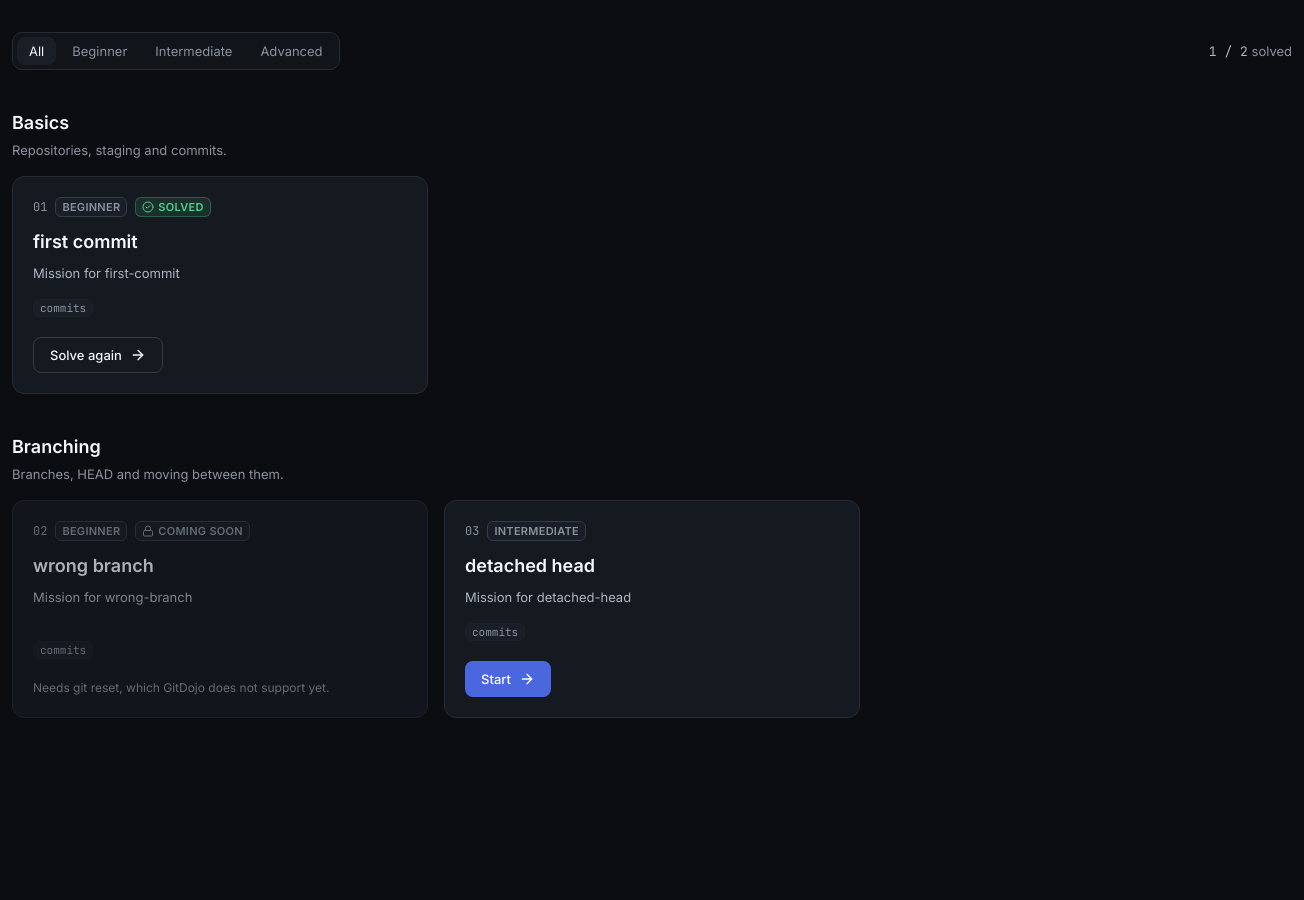
ChallengeBrowser › filters by difficulty
What coordinates should you click on to do the following:
click the button "Intermediate"
I would click on:
 (194, 51)
Its box is left=143, top=37, right=244, bottom=65.
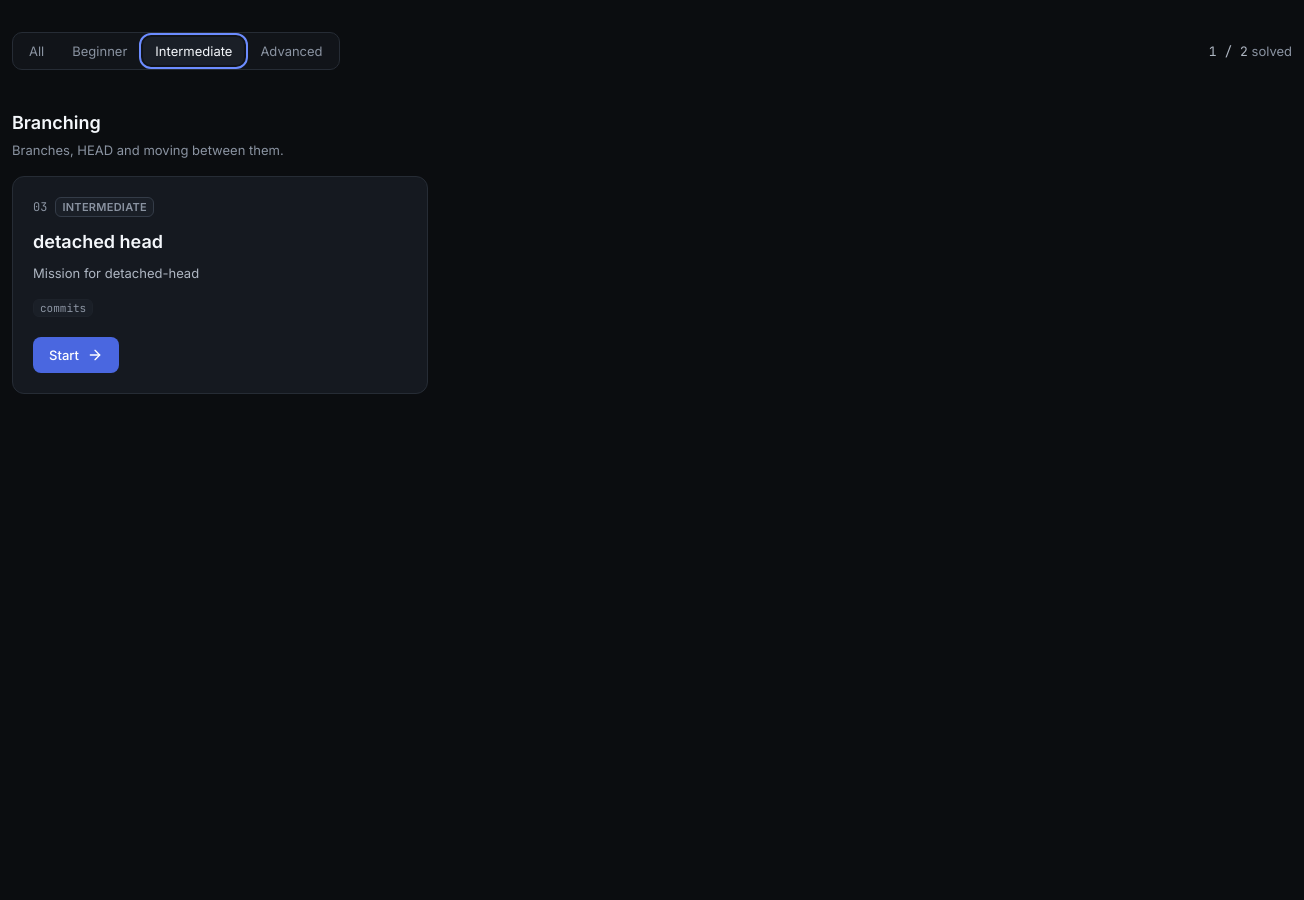
What coordinates should you click on to do the following:
click the button "Advanced"
I would click on:
 (292, 51)
Its box is left=248, top=37, right=335, bottom=65.
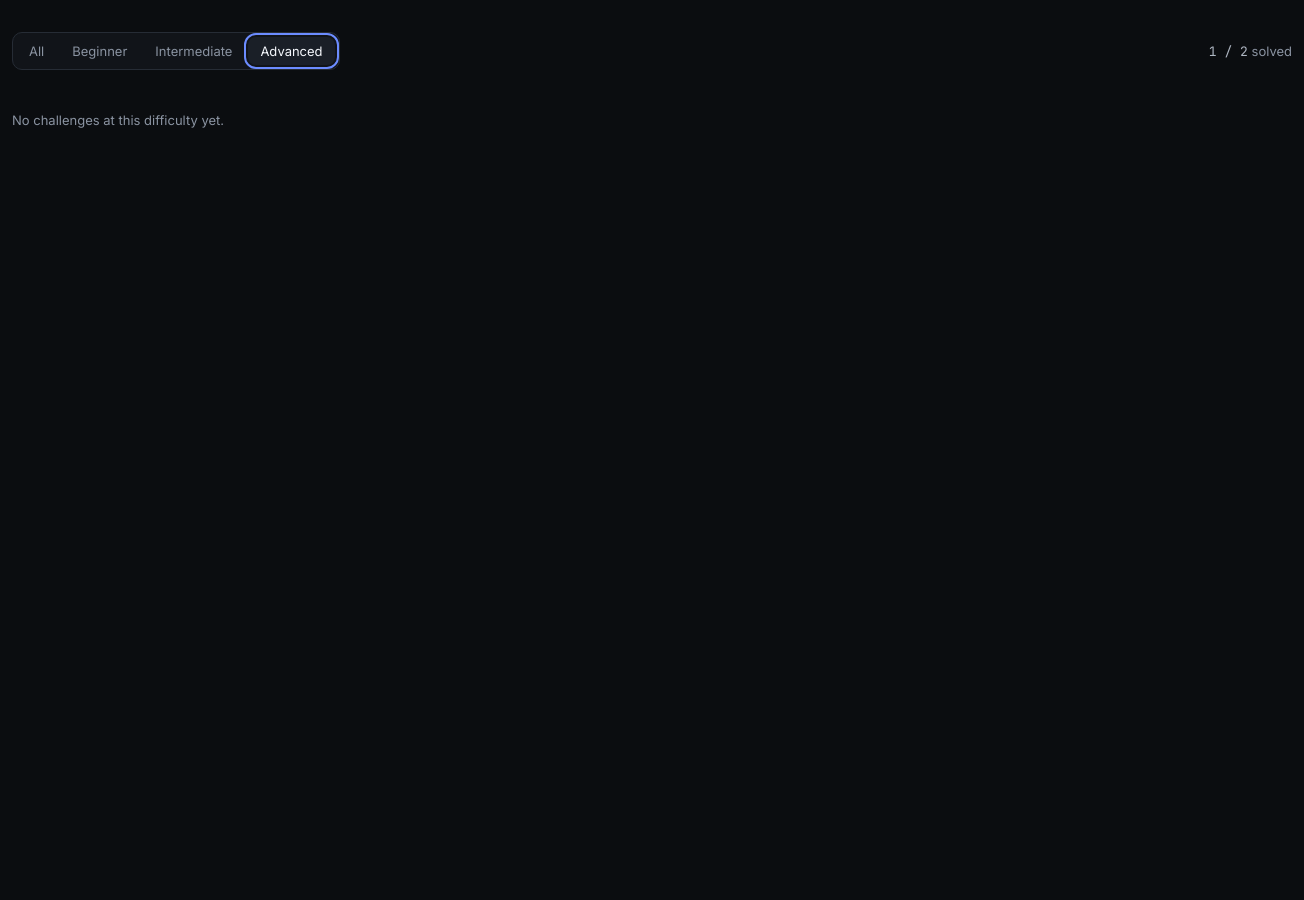
Expected: the text "No challenges at this difficulty yet." is shown, left=12, top=112, right=224, bottom=128
